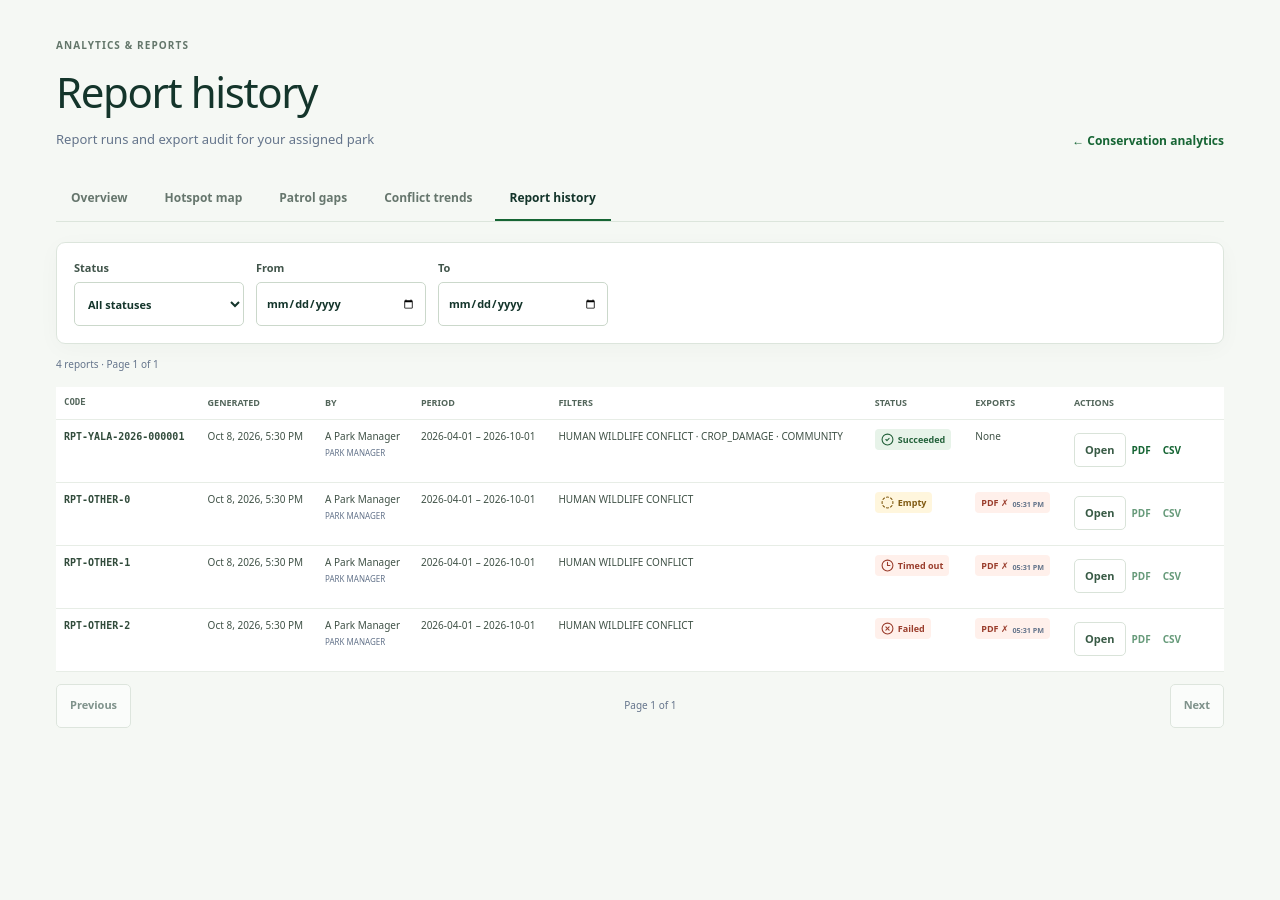
M4 P9 spatial and history edge cases › records skipped exports as None and prevents exports from failed or empty runs
The width and height of the screenshot is (1280, 900).
Expected: the column heading "RPT-YALA-2026-000001" is shown, [56,419,200,482]
Expected: the text "None" is shown, [975,428,1001,442]
Click the button "PDF" in the row of "RPT-YALA-2026-000001" at (1141, 450), box [1126,428,1157,472]
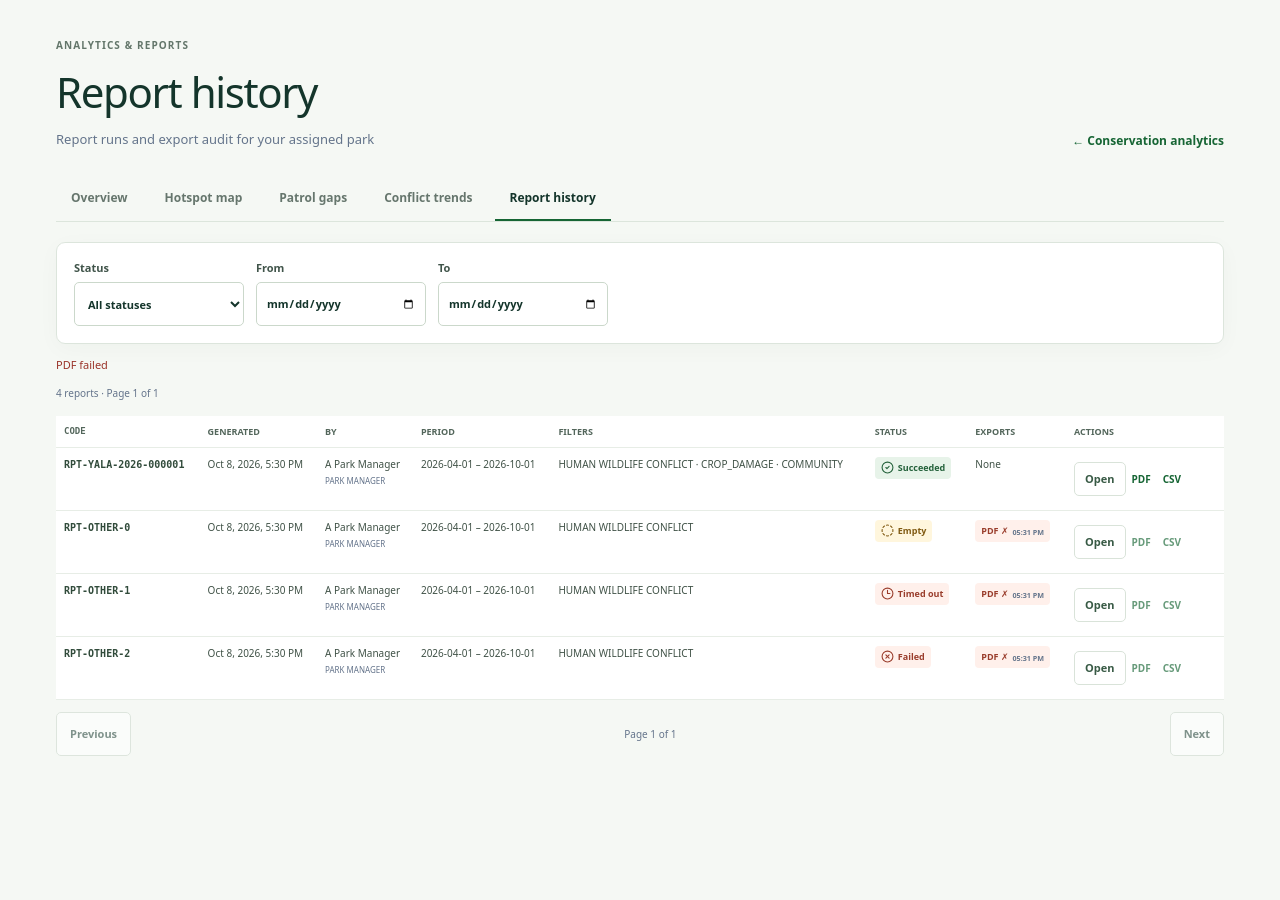
Now the message "PDF failed" is shown, box [56,357,108,372]
Click the button "CSV" in the row of "RPT-YALA-2026-000001" at (1172, 479), box [1157,457,1187,501]
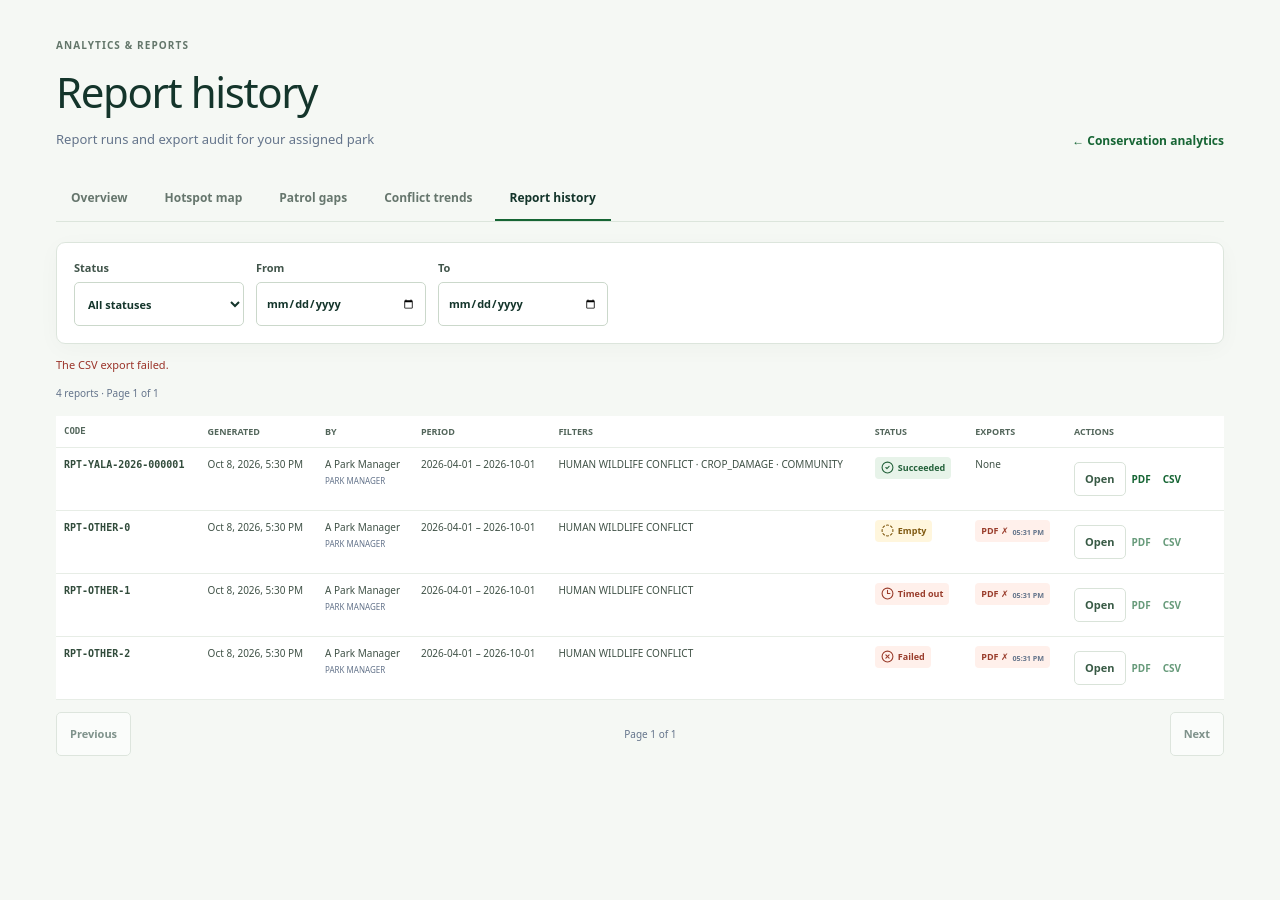
Now the message "The CSV export failed." is shown, box [56,357,169,372]
Click the button "CSV" in the row of "RPT-YALA-2026-000001" at (1172, 479), box [1157,457,1187,501]
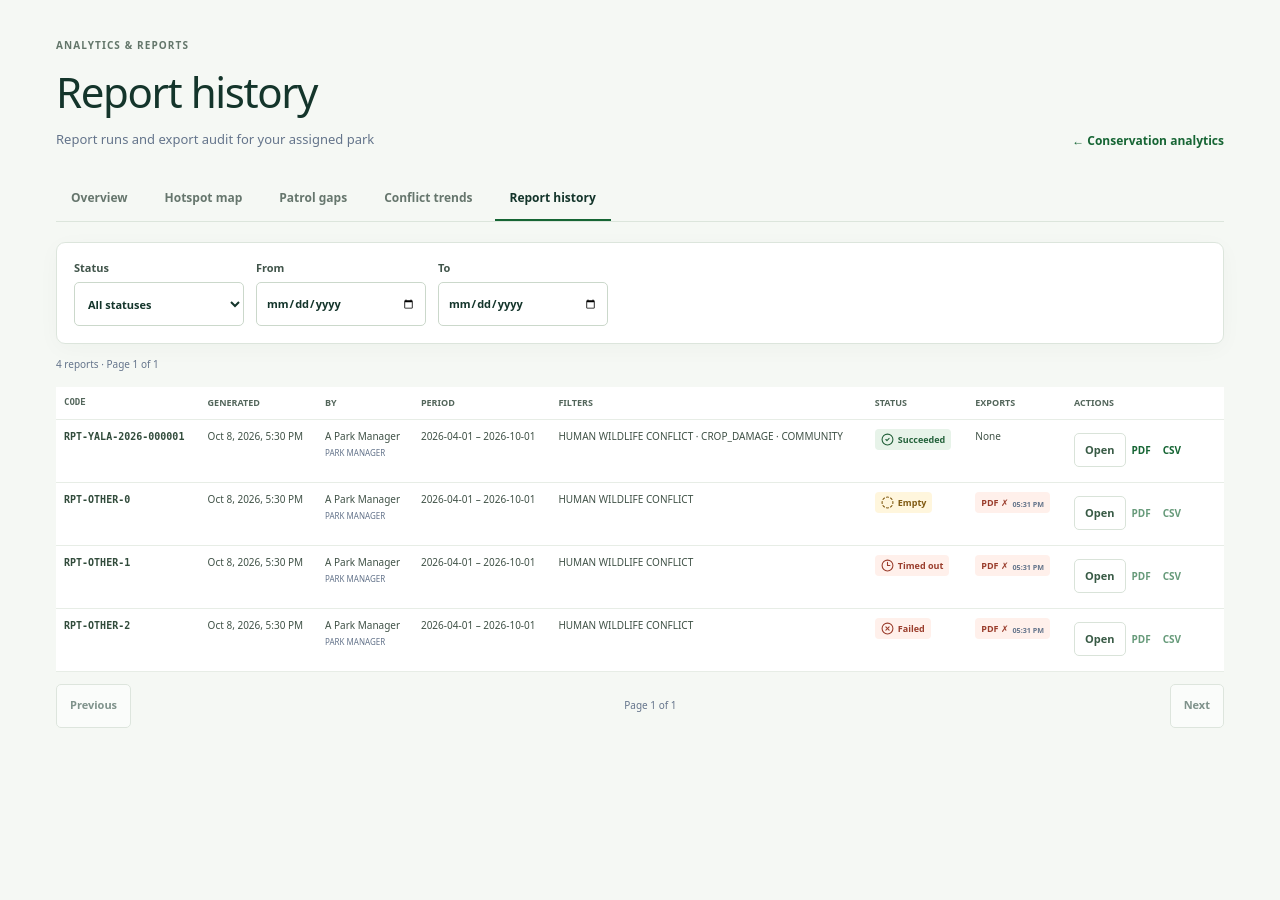
Now the message "The CSV export failed." is gone
